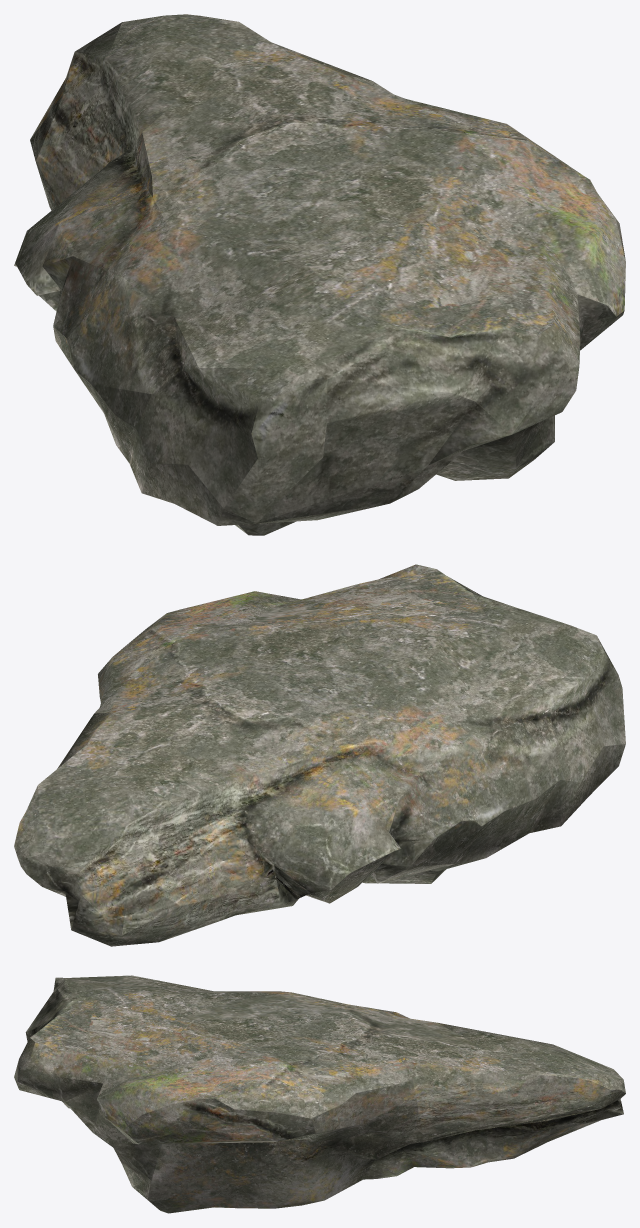
Rendered from ROCK.fbx.
The picture shows the model from 3 angles, top to bottom: view 1: azimuth 30°, elevation 25°; view 2: azimuth 150°, elevation 25°; view 3: azimuth 270°, elevation 25°; orthographic projection. The views are drawn at different scales.
Parts seen in each view (by area): view 1: Obj_Stone_01; view 2: Obj_Stone_01; view 3: Obj_Stone_01.
Boxes of the visible parts, bbox=[...] form: Obj_Stone_01: bbox=[14, 14, 625, 535]; Obj_Stone_01: bbox=[14, 564, 625, 946]; Obj_Stone_01: bbox=[14, 975, 625, 1213].
Bounding box in the file's own units: 270 × 136 × 454.
Materials: 1 (1 with a texture image).
